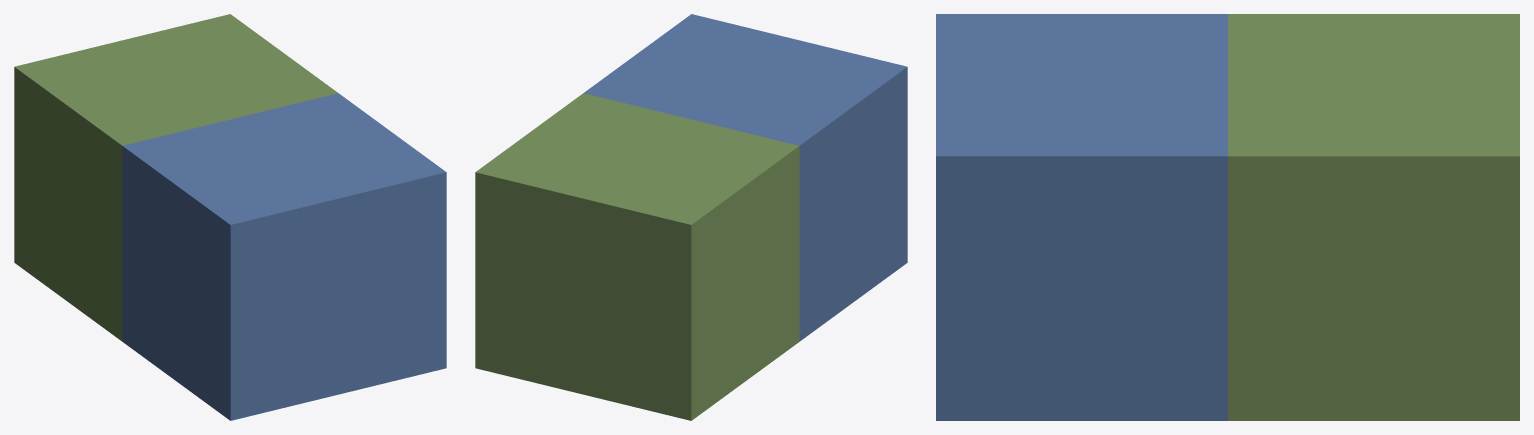
File: quad_17_lake-grassland_lake_grassland-lake_grassland.glb
3 renders of one model, left to right at view 1: azimuth 30°, elevation 25°; view 2: azimuth 150°, elevation 25°; view 3: azimuth 270°, elevation 25°, orthographic. The views are drawn at different scales.
Parts seen in each view (by area): view 1: quad_17_lake-grassland_lake_grassland-lake_grassland; view 2: quad_17_lake-grassland_lake_grassland-lake_grassland; view 3: quad_17_lake-grassland_lake_grassland-lake_grassland.
Part boxes in pixels (x1,y1,x2,y2): quad_17_lake-grassland_lake_grassland-lake_grassland: [14, 14, 446, 420]; quad_17_lake-grassland_lake_grassland-lake_grassland: [475, 14, 907, 420]; quad_17_lake-grassland_lake_grassland-lake_grassland: [936, 14, 1519, 420].
Bounding box in the file's own units: 0.577 × 0.5 × 1.
